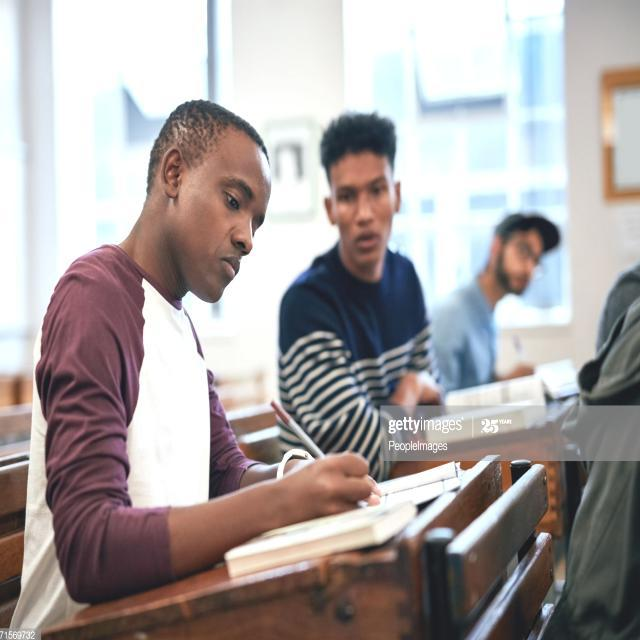cheating: (263, 103, 474, 433)
good: (26, 86, 273, 610)
